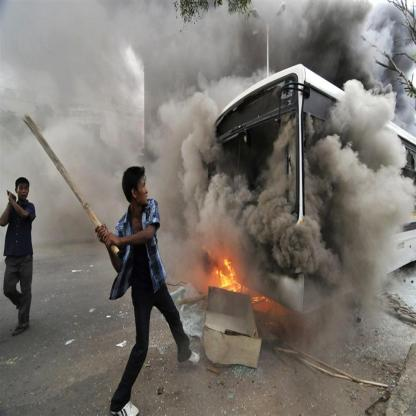face: (136, 177, 150, 205), (19, 183, 29, 200)
